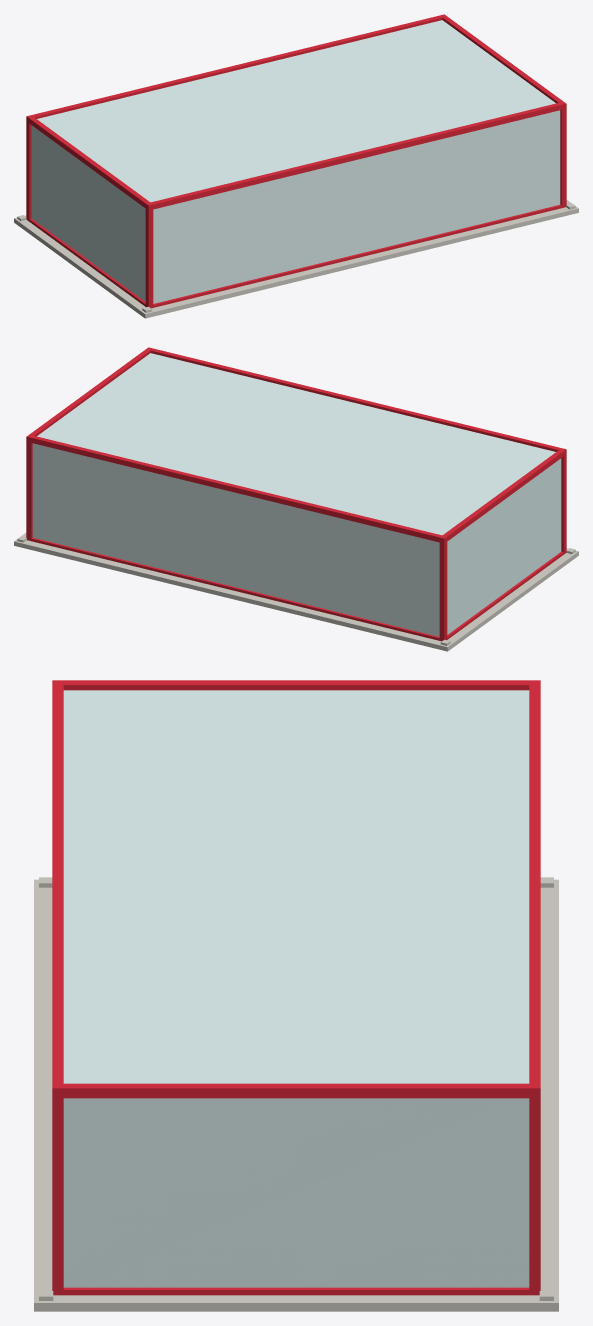
File: lamborghini-sian-fpk.glb
3 renders of one model, top to bottom at view 1: azimuth 30°, elevation 25°; view 2: azimuth 150°, elevation 25°; view 3: azimuth 270°, elevation 25°, orthographic. The views are drawn at different scales.
Bounding box in the file's own units: 0.63 × 0.1495 × 0.33.
